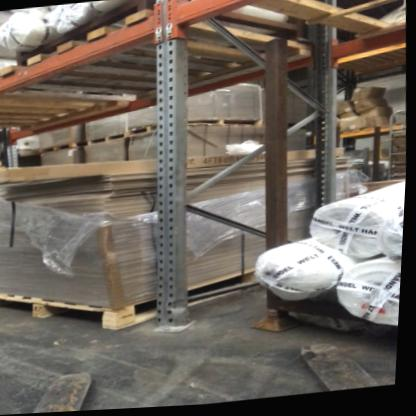vertical_damage: (155, 293, 203, 339)
